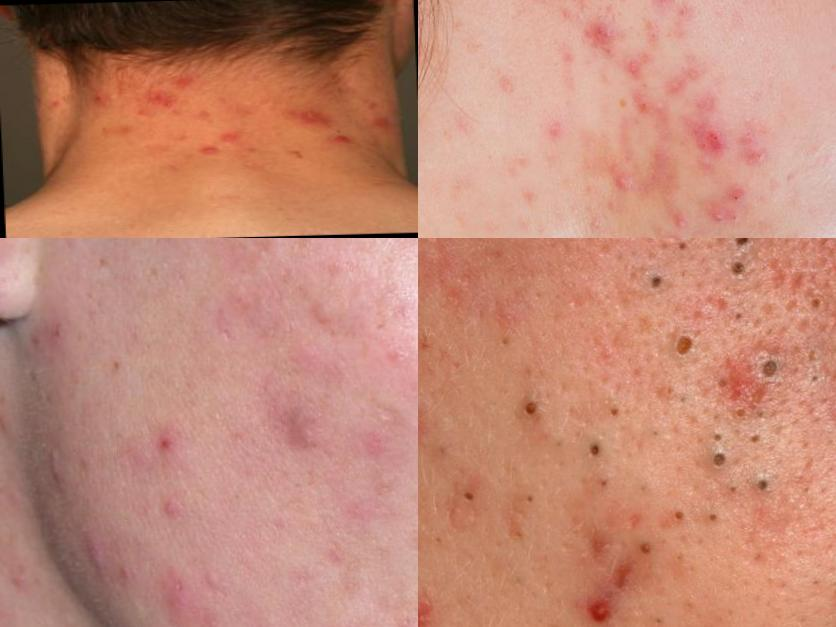blackhead: (702, 440, 779, 514), (641, 505, 729, 536), (617, 265, 675, 310), (517, 394, 562, 442), (751, 355, 805, 394), (709, 239, 757, 281), (582, 427, 611, 477), (510, 482, 552, 514), (668, 338, 700, 375), (453, 483, 484, 520), (824, 578, 836, 612)
cystic: (274, 383, 325, 504), (663, 209, 691, 238)
papular: (55, 509, 142, 613), (132, 64, 201, 117), (141, 573, 195, 627), (572, 587, 624, 627), (419, 575, 440, 627), (292, 106, 332, 128), (610, 172, 636, 201), (748, 143, 772, 172), (195, 142, 222, 161), (217, 129, 247, 146), (325, 135, 352, 148), (652, 1, 672, 14)
sebo-crystan-conglo: (684, 126, 731, 156), (589, 14, 618, 57)
whitehead: (345, 397, 409, 440), (191, 400, 244, 442), (217, 90, 276, 118), (198, 567, 243, 593), (103, 82, 127, 111)
